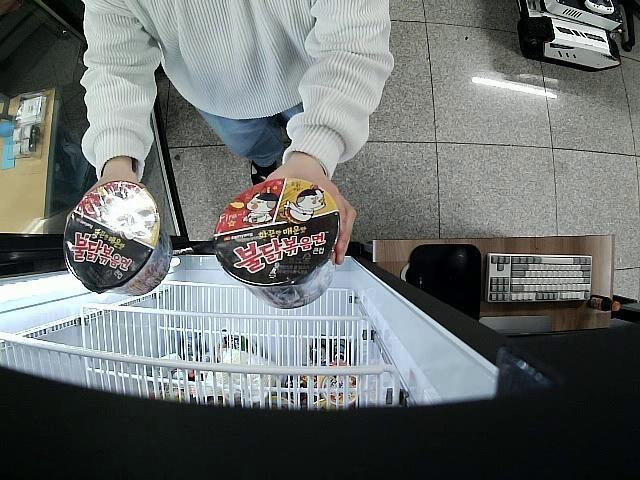07_buldak_L: (215, 176, 344, 310), (60, 180, 173, 297)
